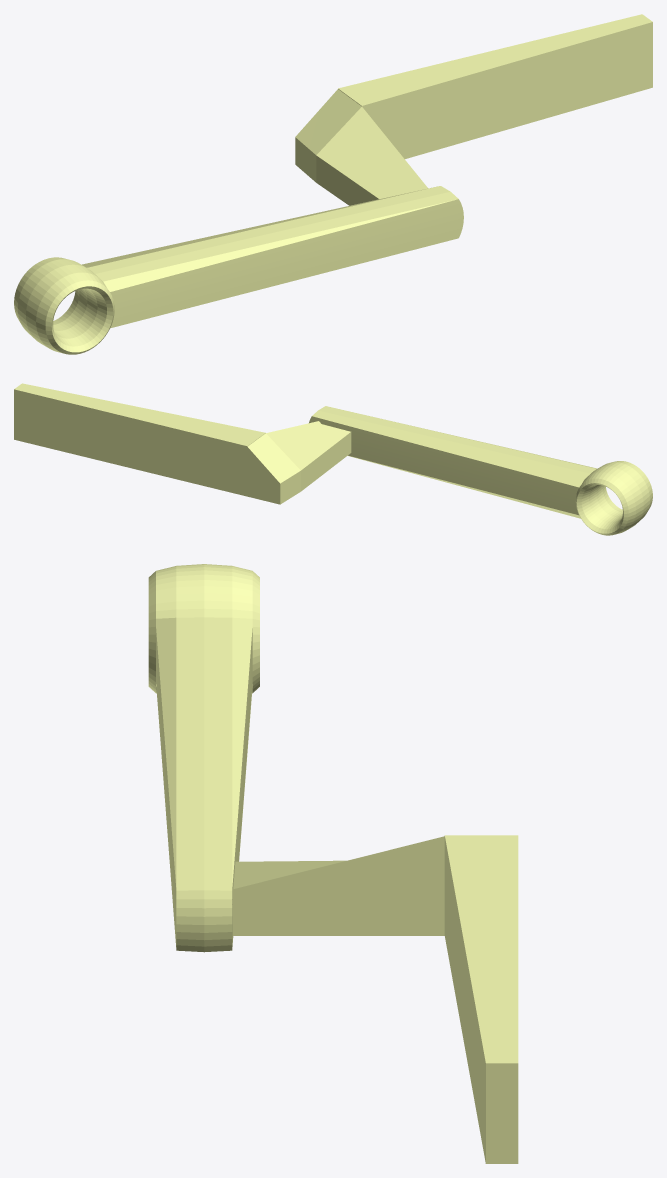
The model's file is gripper_right.gltf.
3 views of the same model, one above another, from view 1: azimuth 30°, elevation 25°; view 2: azimuth 150°, elevation 25°; view 3: azimuth 270°, elevation 25° (orthographic). The views are drawn at different scales.
Parts seen in each view (by area): view 1: Torus.000; view 2: Torus.000; view 3: Torus.000.
Part boxes in pixels (x1,y1,x2,y2): Torus.000: (14,14,652,354); Torus.000: (14,383,652,535); Torus.000: (148,564,518,1163).
Size of the model in its own units: 0.0694 by 0.00842 by 0.0202.
1 material, 1 textured.
